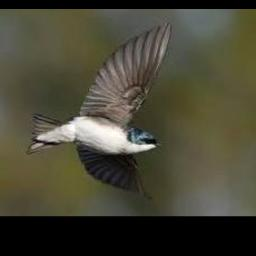Swallow: (28, 22, 174, 199)
